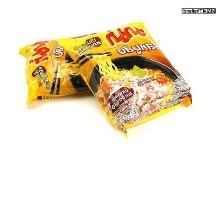snack: (51, 14, 197, 142), (14, 24, 124, 114)
